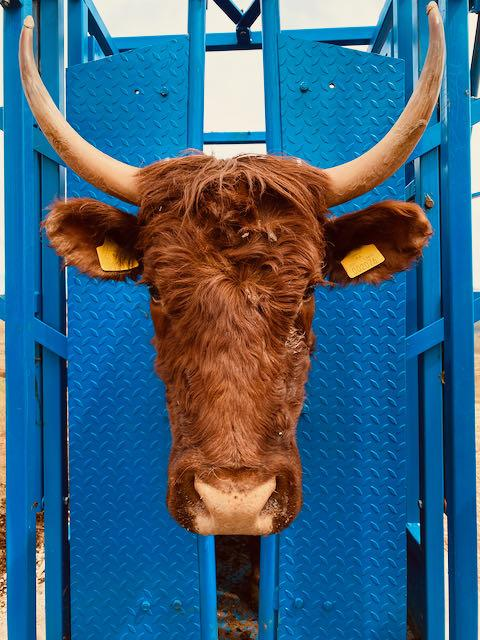muzzles: (158, 466, 308, 544)
